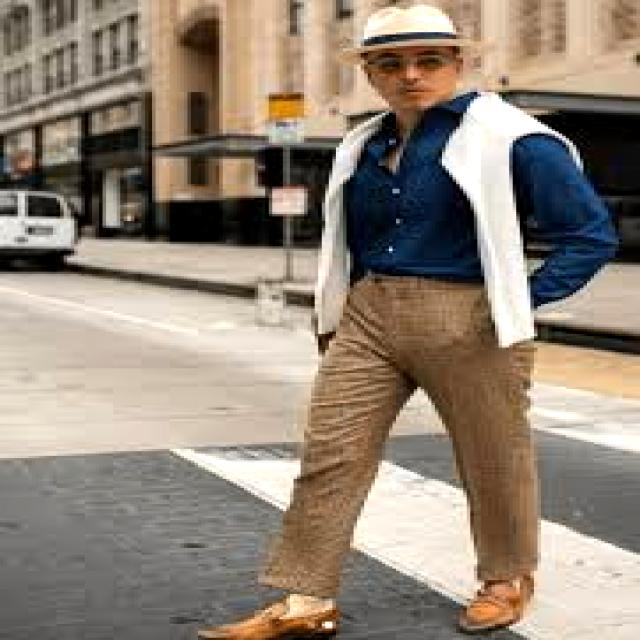face: (365, 47, 463, 112)
hat: (340, 5, 484, 62)
lower-wear: (259, 274, 537, 596)
